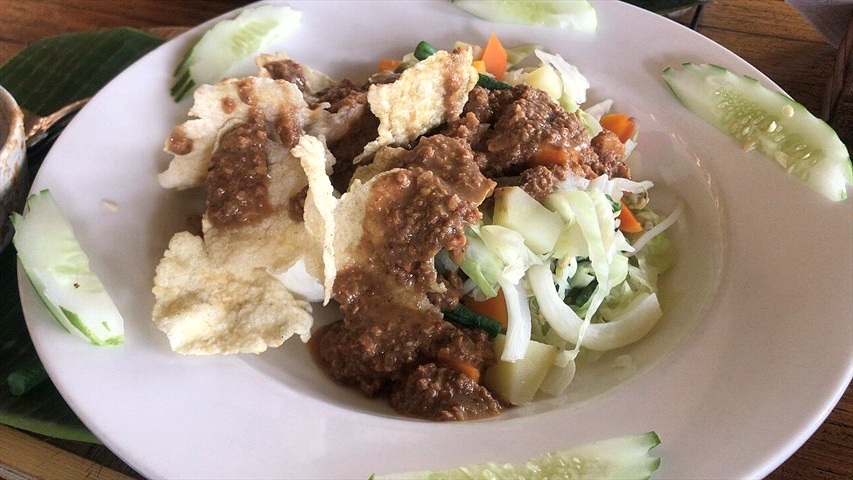Gado-Gado: (18, 51, 664, 421)
